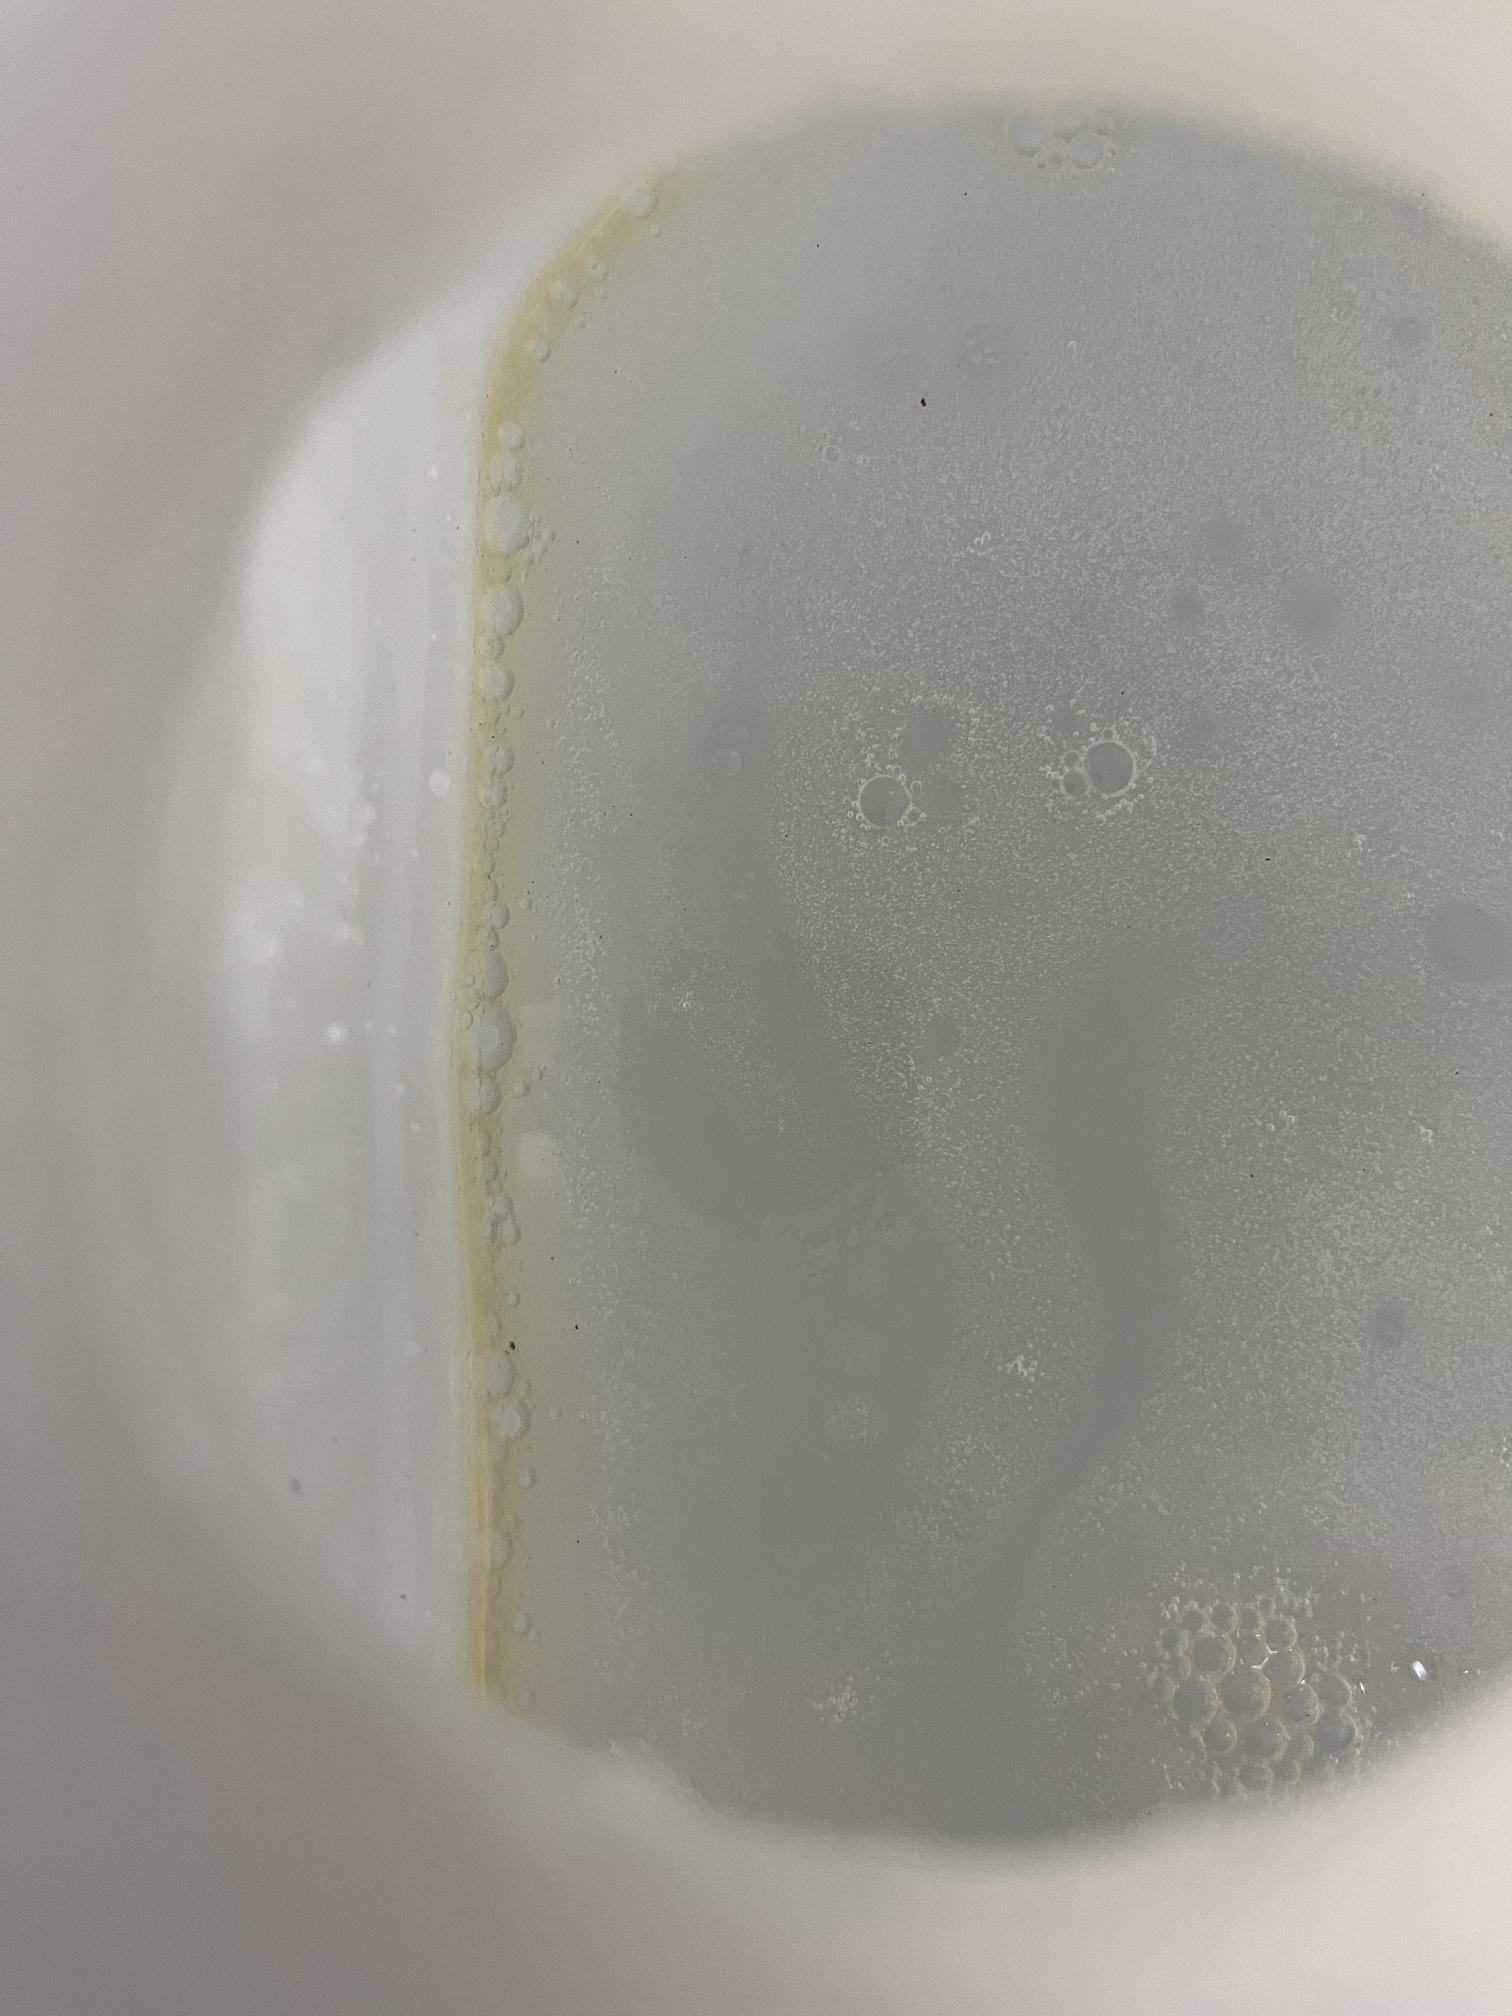Presenca de Oleo - - 140ml: (127, 102, 1450, 1914)
